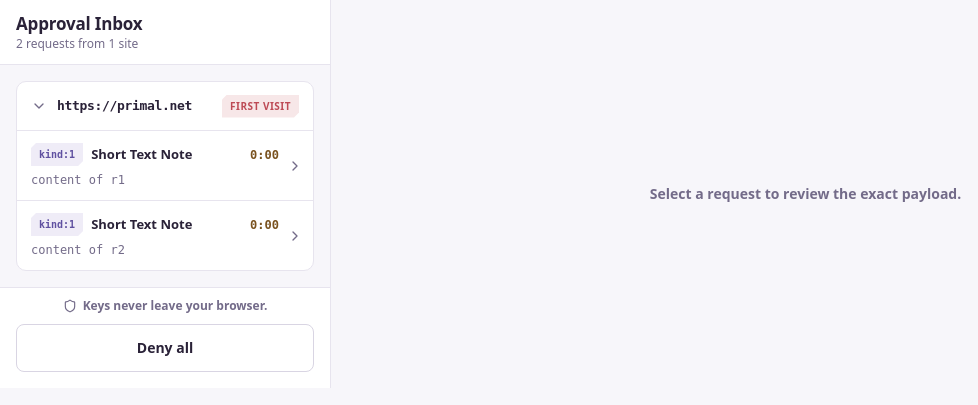
ApprovalPrompt batch deny › uses a generic message when a batch fails without an Error
The image size is (978, 405).
Click the button "Deny all" at (165, 348), box [16,324,314,372]
Wait 600 ms
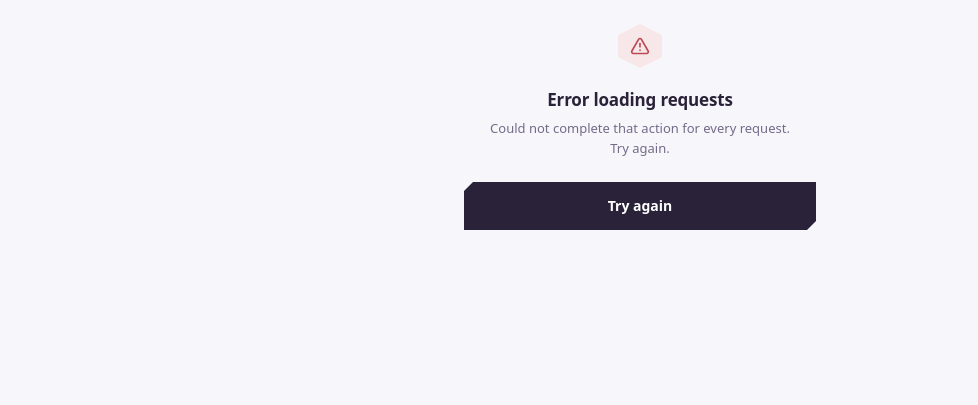
Check: the text "Could not complete that action for every request. Try again." is shown, box [464,118,816,158]
